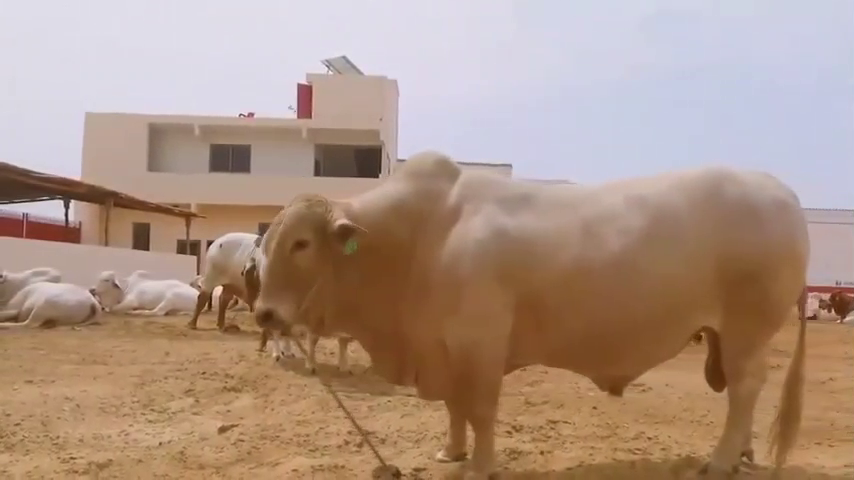bo: (245, 129, 812, 473), (183, 217, 252, 343), (86, 257, 202, 324), (3, 276, 100, 332), (2, 261, 68, 294)
